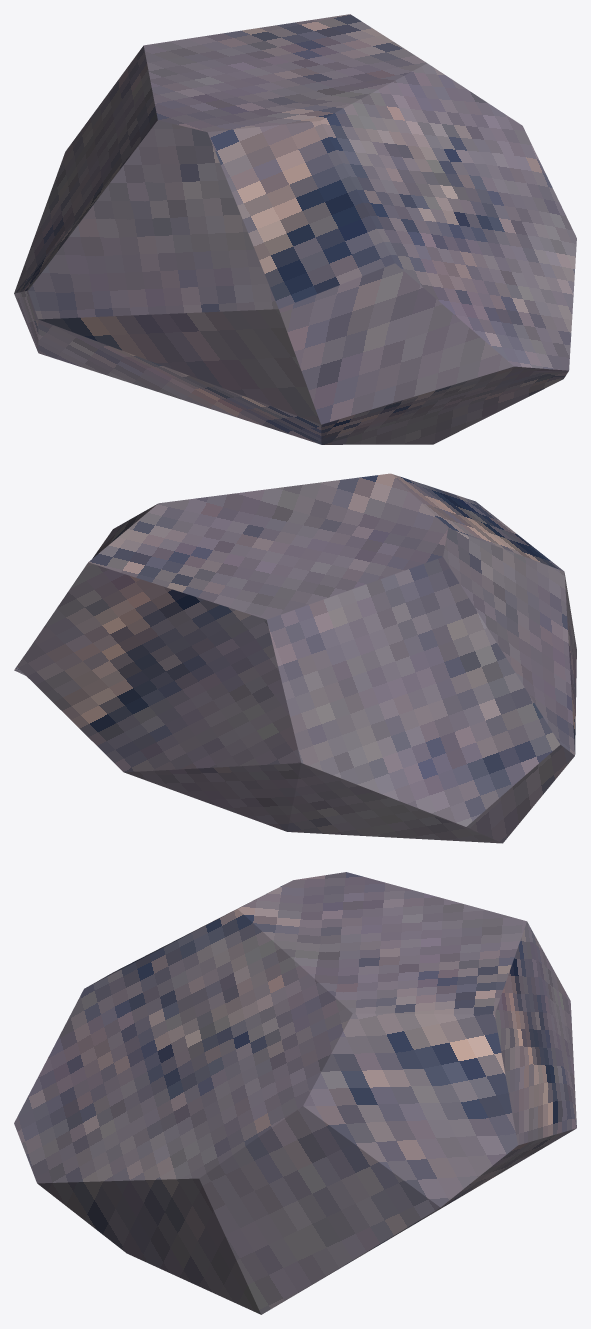
Rendered from rock3.glb.
3 renders of one model, top to bottom at view 1: azimuth 30°, elevation 25°; view 2: azimuth 150°, elevation 25°; view 3: azimuth 270°, elevation 25°, orthographic. The views are drawn at different scales.
Visible parts, largest first — view 1: big rock.003; view 2: big rock.003; view 3: big rock.003.
Boxes of the visible parts, bbox=[...] form: big rock.003: bbox=[14, 14, 576, 444]; big rock.003: bbox=[14, 473, 576, 843]; big rock.003: bbox=[14, 872, 576, 1314].
Bounding box in the file's own units: 0.5395 × 0.3322 × 0.5478.
Materials: 1 (1 with a texture image).
